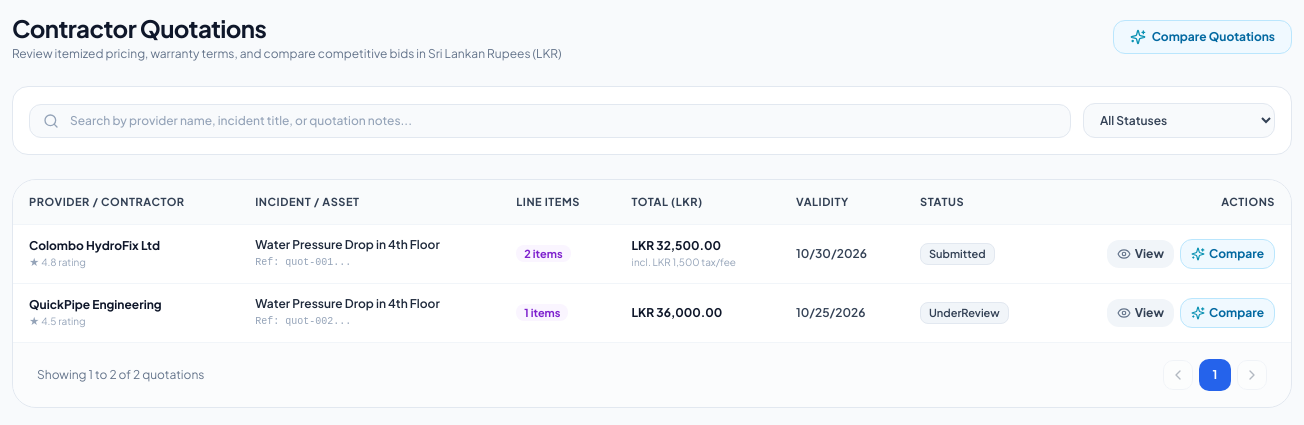
Scenario: QuotationListPage › filters quotations using search query
Check: the text "Colombo HydroFix Ltd" is shown, box [29,238,160,253]
Step 1. Replace the text in the field with placeholder "Search by provider name, incident title, or quotation notes..." with "QuickPipe" → (550, 120), box [29,104,1071,138]
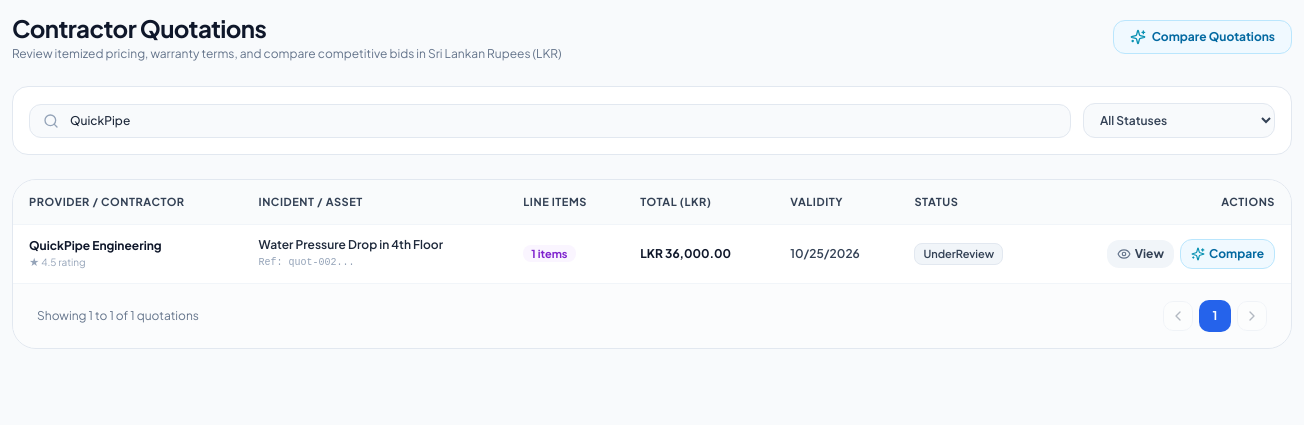
Check: the text "QuickPipe Engineering" is shown, box [29,238,162,253]
Check: the text "Colombo HydroFix Ltd" is gone
